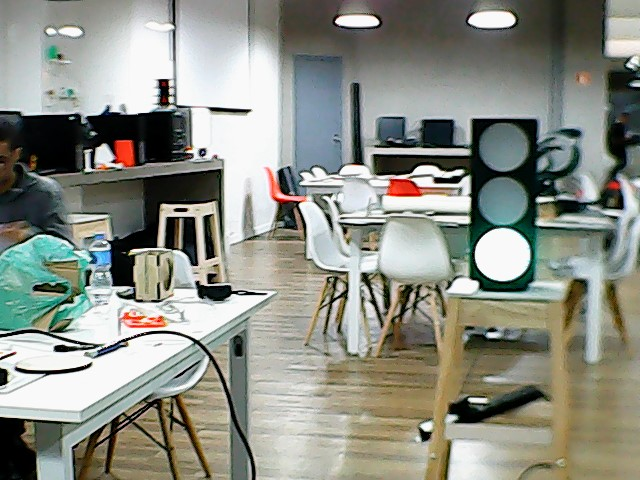verde: (465, 114, 550, 291)
